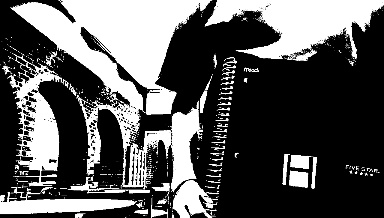H: (281, 152, 316, 188)
